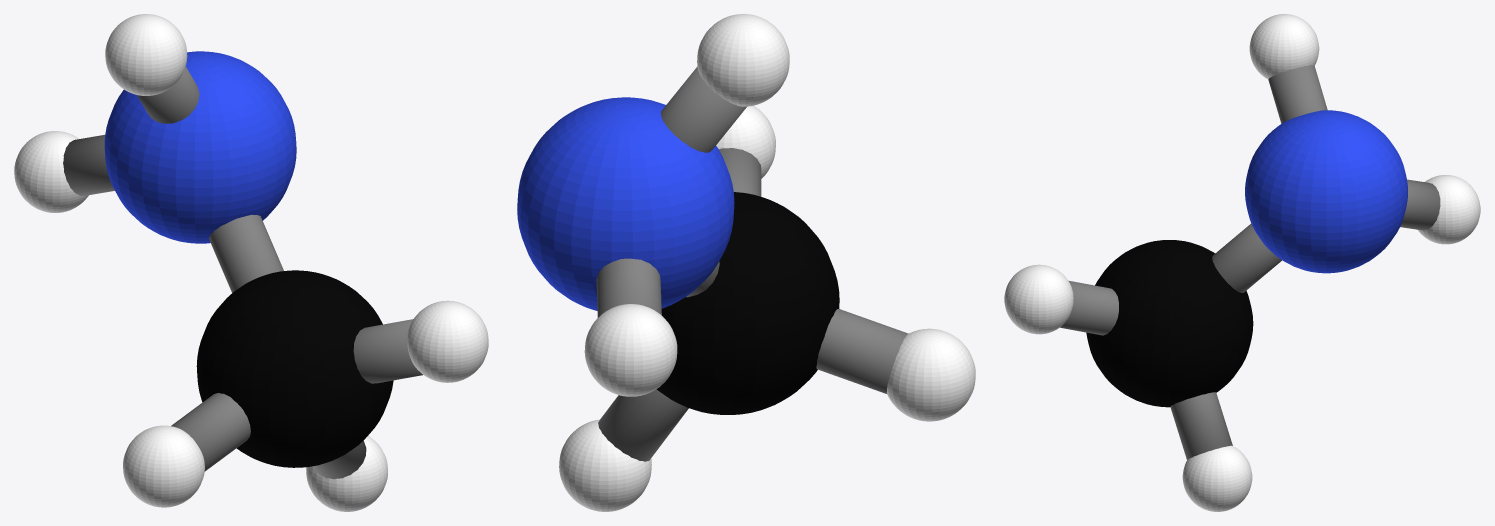
File: METILAMINA.obj
3 views of the same model, side by side, from view 1: azimuth 30°, elevation 25°; view 2: azimuth 150°, elevation 25°; view 3: azimuth 270°, elevation 25° (orthographic). The views are drawn at different scales.
Parts seen in each view (by area): view 1: Carbon_ball_Sphere.001, Nitrogen_ball_Sphere.002, Hydrogen_ball_Sphere, Stick_Cylinder.003_Cylinder.003, Stick_Cylinder.005_Cylinder.005, Stick_Cylinder.004_Cylinder.004, Stick_Cylinder_Cylinder, Stick_Cylinder.001_Cylinder.001, Stick_Cylinder.002_Cylinder.002; view 2: Nitrogen_ball_Sphere.002, Hydrogen_ball_Sphere, Carbon_ball_Sphere.001, Stick_Cylinder.005_Cylinder.005, Stick_Cylinder.002_Cylinder.002, Stick_Cylinder.001_Cylinder.001, Stick_Cylinder_Cylinder, Stick_Cylinder.004_Cylinder.004; view 3: Nitrogen_ball_Sphere.002, Carbon_ball_Sphere.001, Hydrogen_ball_Sphere, Stick_Cylinder.002_Cylinder.002, Stick_Cylinder.003_Cylinder.003, Stick_Cylinder.001_Cylinder.001, Stick_Cylinder.004_Cylinder.004, Stick_Cylinder_Cylinder.
Part boxes in pixels (x1,y1,x2,y2): Carbon_ball_Sphere.001: (196,270,393,467); Nitrogen_ball_Sphere.002: (104,51,296,243); Hydrogen_ball_Sphere: (14,14,488,511); Stick_Cylinder.003_Cylinder.003: (209,215,283,292); Stick_Cylinder.005_Cylinder.005: (171,393,250,471); Stick_Cylinder.004_Cylinder.004: (353,319,422,383); Stick_Cylinder_Cylinder: (63,135,114,195); Stick_Cylinder.001_Cylinder.001: (137,66,199,123); Stick_Cylinder.002_Cylinder.002: (313,441,366,479); Nitrogen_ball_Sphere.002: (517,97,734,310); Hydrogen_ball_Sphere: (559,14,975,511); Carbon_ball_Sphere.001: (656,192,839,414); Stick_Cylinder.005_Cylinder.005: (816,309,908,393); Stick_Cylinder.002_Cylinder.002: (598,389,688,461); Stick_Cylinder.001_Cylinder.001: (661,67,746,152); Stick_Cylinder_Cylinder: (596,258,661,317); Stick_Cylinder.004_Cylinder.004: (719,148,761,196); Nitrogen_ball_Sphere.002: (1245,110,1407,273); Carbon_ball_Sphere.001: (1086,240,1253,407); Hydrogen_ball_Sphere: (1004,14,1480,511); Stick_Cylinder.002_Cylinder.002: (1170,392,1232,459); Stick_Cylinder.003_Cylinder.003: (1212,223,1281,292); Stick_Cylinder.001_Cylinder.001: (1268,65,1327,123); Stick_Cylinder.004_Cylinder.004: (1060,280,1118,335); Stick_Cylinder_Cylinder: (1400,179,1440,230).
Bounding box in the file's own units: 2.48 × 3.87 × 3.94.
